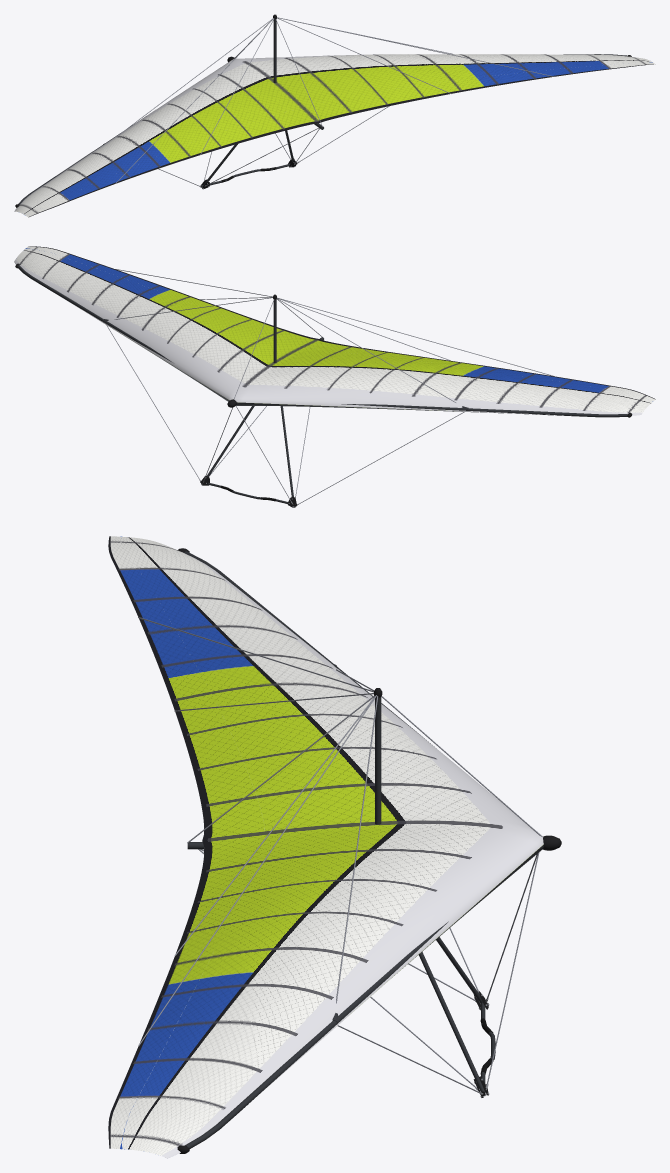
Rendered from glider_fs_crossover.glb.
3 renders of one model, top to bottom at view 1: azimuth 30°, elevation 25°; view 2: azimuth 150°, elevation 25°; view 3: azimuth 270°, elevation 25°, orthographic. The views are drawn at different scales.
Parts seen in each view (by area): view 1: Sail, Frame, ControlFrame; view 2: Sail, Frame, ControlFrame; view 3: Sail, Frame, ControlFrame.
Part boxes in pixels (x1=…): Sail: x1=14, y1=54, x2=655, y2=217; Frame: x1=15, y1=14, x2=631, y2=207; ControlFrame: x1=158, y1=106, x2=389, y2=189; Sail: x1=14, y1=246, x2=655, y2=415; Frame: x1=15, y1=263, x2=632, y2=417; ControlFrame: x1=106, y1=325, x2=464, y2=507; Sail: x1=108, y1=536, x2=543, y2=1158; Frame: x1=138, y1=548, x2=561, y2=1153; ControlFrame: x1=198, y1=849, x2=539, y2=1097.
Size of the model in its own units: 9.9 by 2.76 by 3.1.
Materials: 8 (1 with a texture image).
